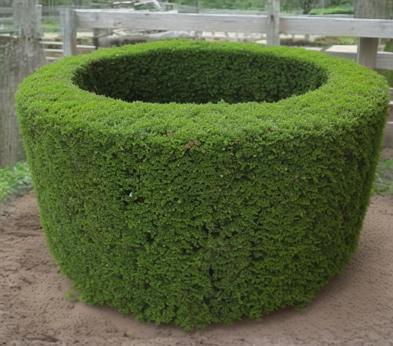pottedplant: (15, 37, 390, 335)
